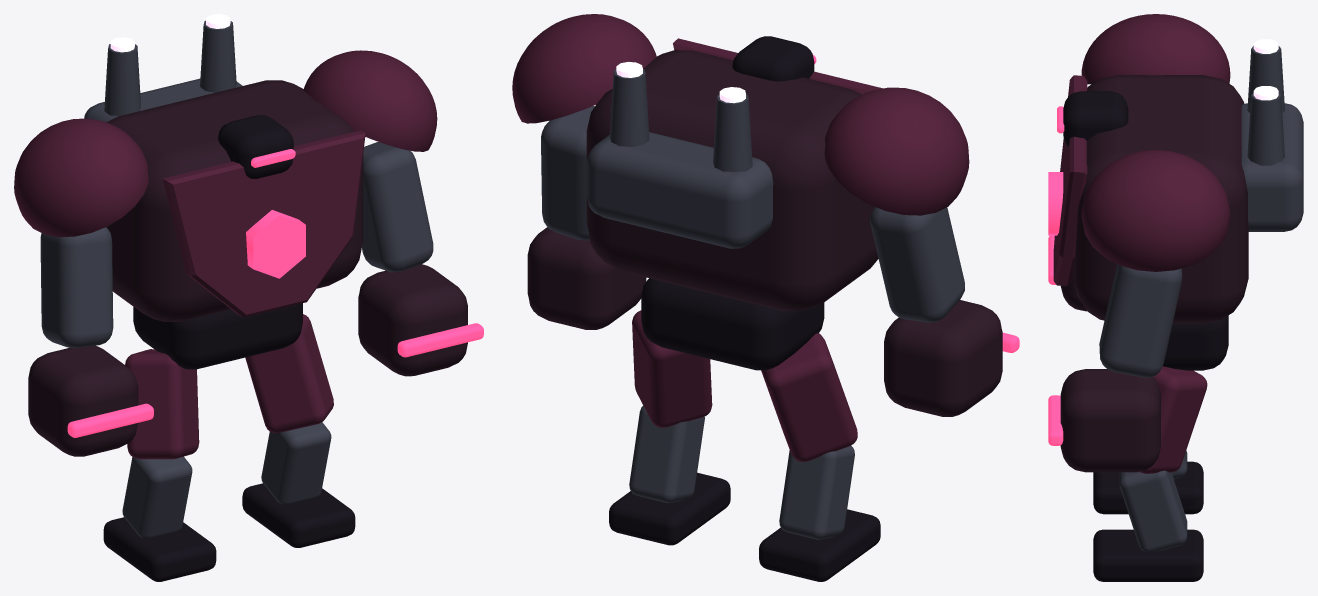
Rendered from brute.glb.
3 renders of one model, left to right at view 1: azimuth 30°, elevation 25°; view 2: azimuth 150°, elevation 25°; view 3: azimuth 270°, elevation 25°, orthographic. The views are drawn at different scales.
Visible parts, largest first — view 1: torso:hull, torso:plate, armR:plate, torso:dark, armL:plate, armR:hull, armL:hull, armR:alloy, armL:alloy, legL:plate, legR:plate, torso:alloy (+8 smaller); view 2: torso:hull, torso:alloy, armR:plate, torso:dark, armR:hull, armL:plate, armR:alloy, armL:hull, legR:plate, legL:plate, armL:alloy, legR:alloy (+5 smaller); view 3: torso:hull, armL:plate, armL:hull, torso:alloy, armR:plate, armL:alloy, torso:dark, legL:dark, legL:alloy, legL:plate, torso:plate, legR:dark (+4 smaller).
Boxes of the visible parts, box(x1,y1,x2,y2) form: torso:hull: box(106, 80, 363, 321); torso:plate: box(162, 130, 365, 317); armR:plate: box(14, 118, 148, 236); torso:dark: box(133, 115, 302, 369); armL:plate: box(303, 50, 437, 151); armR:hull: box(28, 345, 138, 456); armL:hull: box(358, 264, 467, 376); armR:alloy: box(40, 227, 113, 348); armL:alloy: box(362, 142, 433, 272); legL:plate: box(245, 314, 333, 432); legR:plate: box(125, 349, 199, 459); torso:alloy: box(84, 20, 242, 122); torso:hull: box(586, 50, 878, 310); torso:alloy: box(587, 69, 773, 248); armR:plate: box(824, 87, 969, 215); torso:dark: box(641, 36, 824, 370); armR:hull: box(884, 300, 1002, 416); armL:plate: box(512, 14, 656, 123); armR:alloy: box(870, 207, 964, 322); armL:hull: box(527, 227, 646, 329); legR:plate: box(761, 333, 857, 462); legL:plate: box(632, 310, 712, 427); armL:alloy: box(541, 106, 594, 240); legR:alloy: box(779, 445, 854, 539); torso:hull: box(1073, 75, 1248, 323); armL:plate: box(1081, 150, 1230, 271); armL:hull: box(1060, 369, 1160, 472); torso:alloy: box(1241, 46, 1303, 231); armR:plate: box(1081, 14, 1230, 84); armL:alloy: box(1099, 264, 1182, 377); torso:dark: box(1063, 91, 1228, 370); legL:dark: box(1093, 529, 1203, 581); legL:alloy: box(1119, 470, 1187, 551); legL:plate: box(1139, 366, 1207, 473); torso:plate: box(1053, 75, 1087, 286); legR:dark: box(1093, 461, 1203, 514).
Bounding box in the file's own units: 1.9 × 2.06 × 1.02.
